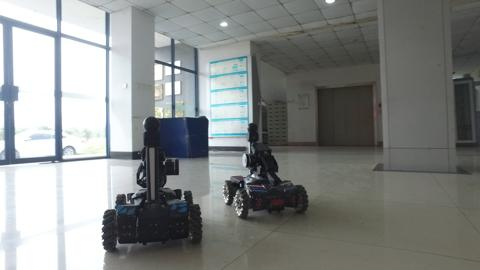chariot: (101, 114, 209, 255), (217, 116, 318, 222)
